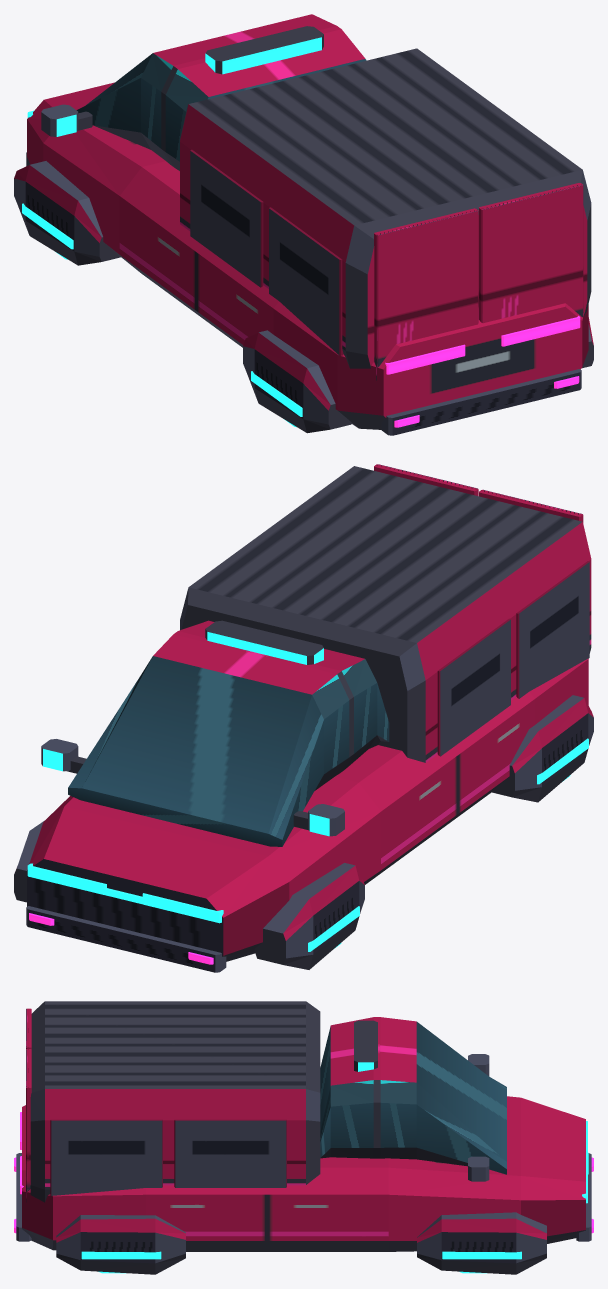
File: crimson_service_van.glb
The picture shows the model from 3 angles, top to bottom: view 1: azimuth 30°, elevation 25°; view 2: azimuth 150°, elevation 25°; view 3: azimuth 270°, elevation 25°; orthographic projection. The views are drawn at different scales.
Visible parts, largest first — view 1: service_body, hull, cab_glazing, rear_door, rear_door.001, equipment_locker, equipment_locker.001, front_pod_l, rear_pod_l, bumper, roof_beacon, mirror (+4 smaller); view 2: service_body, hull, cab_glazing, equipment_locker, front_pod_l, equipment_locker.001, rear_pod_l, bumper.001, roof_beacon, mirror, mirror.001, headlamp (+4 smaller); view 3: service_body, hull, cab_glazing, equipment_locker.002, equipment_locker.003, front_pod_r, rear_pod_r, roof_beacon, rear_door.001, induction_strip.002, induction_strip.003, mirror.001 (+2 smaller).
Part boxes in pixels (x1=…): service_body: x1=180, y1=48, x2=591, y2=368; hull: x1=27, y1=82, x2=588, y2=429; cab_glazing: x1=76, y1=14, x2=366, y2=170; rear_door: x1=374, y1=208, x2=478, y2=380; rear_door.001: x1=479, y1=183, x2=583, y2=323; equipment_locker: x1=269, y1=207, x2=343, y2=355; equipment_locker.001: x1=190, y1=149, x2=263, y2=287; front_pod_l: x1=14, y1=161, x2=120, y2=265; rear_pod_l: x1=243, y1=330, x2=351, y2=433; bumper: x1=381, y1=369, x2=581, y2=435; roof_beacon: x1=205, y1=26, x2=323, y2=74; mirror: x1=41, y1=104, x2=78, y2=136; service_body: x1=180, y1=466, x2=591, y2=762; hull: x1=27, y1=658, x2=588, y2=961; cab_glazing: x1=68, y1=620, x2=389, y2=846; equipment_locker: x1=516, y1=561, x2=589, y2=698; front_pod_l: x1=254, y1=863, x2=364, y2=969; equipment_locker.001: x1=437, y1=618, x2=510, y2=756; rear_pod_l: x1=491, y1=695, x2=593, y2=802; bumper.001: x1=26, y1=906, x2=226, y2=972; roof_beacon: x1=205, y1=620, x2=323, y2=664; mirror: x1=308, y1=804, x2=344, y2=836; mirror.001: x1=41, y1=739, x2=78, y2=771; headlamp: x1=142, y1=893, x2=223, y2=923; service_body: x1=30, y1=1001, x2=320, y2=1202; hull: x1=22, y1=1096, x2=585, y2=1251; cab_glazing: x1=320, y1=1017, x2=506, y2=1174; equipment_locker.002: x1=50, y1=1119, x2=162, y2=1195; equipment_locker.003: x1=174, y1=1119, x2=286, y2=1187; front_pod_r: x1=417, y1=1212, x2=546, y2=1274; rear_pod_r: x1=56, y1=1215, x2=185, y2=1274; roof_beacon: x1=354, y1=1020, x2=377, y2=1071; rear_door.001: x1=26, y1=1049, x2=31, y2=1202; induction_strip.002: x1=81, y1=1251, x2=161, y2=1259; induction_strip.003: x1=442, y1=1251, x2=521, y2=1259; mirror.001: x1=468, y1=1156, x2=489, y2=1181.
Size of the model in its own units: 2.26 by 1.67 by 4.88.
3 materials, 3 textured.
